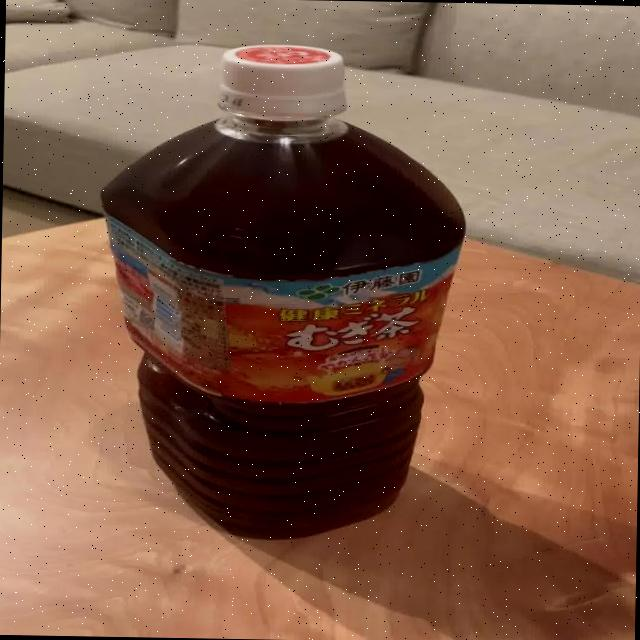bottle: (90, 39, 472, 542)
cap: (220, 41, 351, 128)
label: (100, 220, 467, 407)
